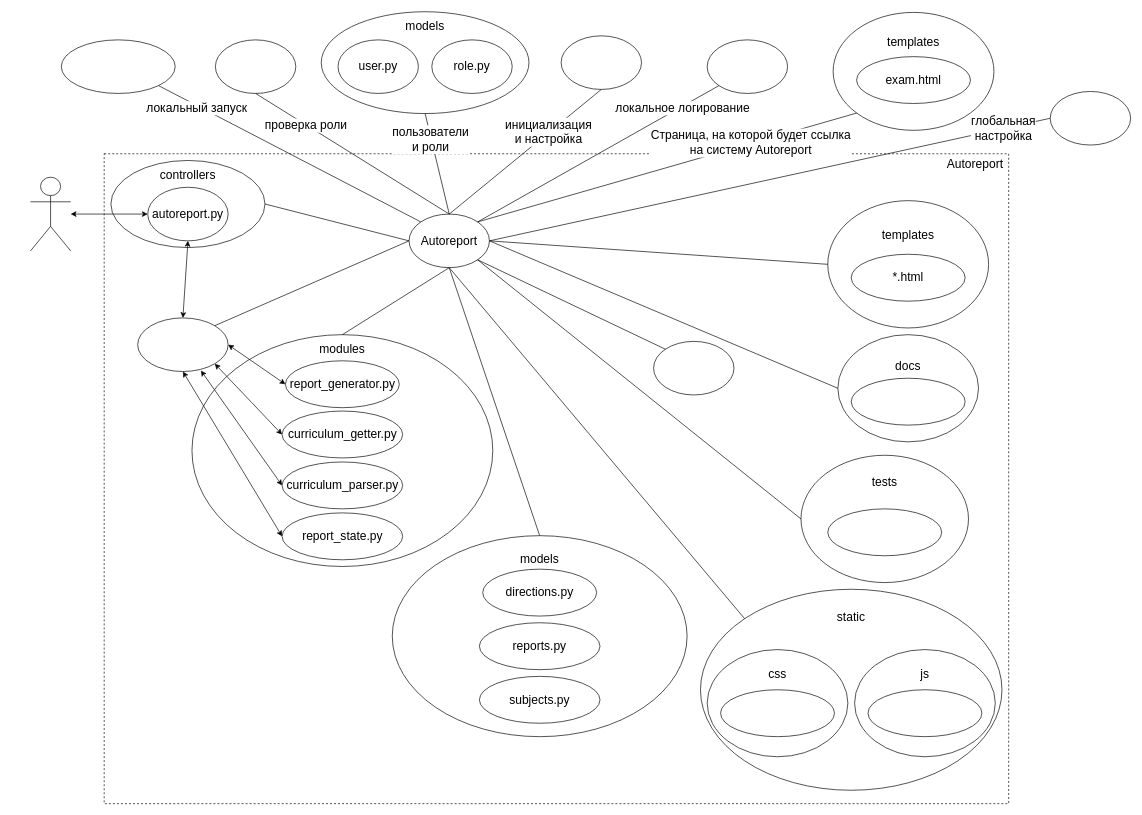
This 1142x815 diagram has some shape labels left out. The centre of each missing label's shape, as x and y in pixels:
"*.css" belongs at (777,713).
"*.doc" belongs at (908,401).
"*.js" belongs at (924,713).
"__init__.py" belongs at (601,62).
"autoreport.log" belongs at (747,66).
"config.py" belongs at (1090,118).
"config.txt" belongs at (693,368).
"funcs.py" belongs at (182,344).
"runlocalserver.py" belongs at (118,66).
"test_app.py" belongs at (884,532).
"utils.py" belongs at (255,66).
"Пользователь" belongs at (50,214).
